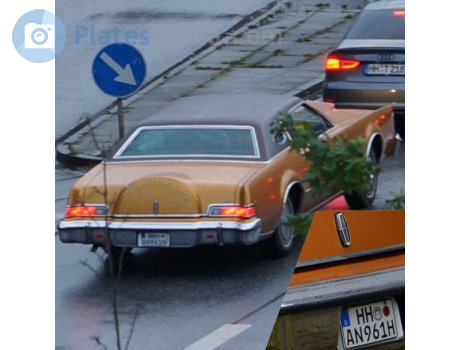License Plates: (343, 308, 399, 339), (365, 62, 412, 76), (141, 232, 167, 245)
